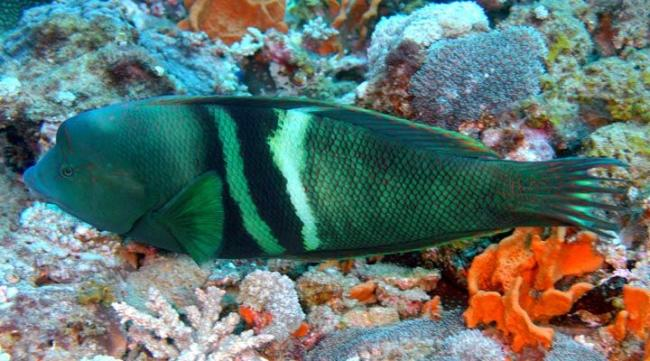fish: (23, 97, 630, 260)
